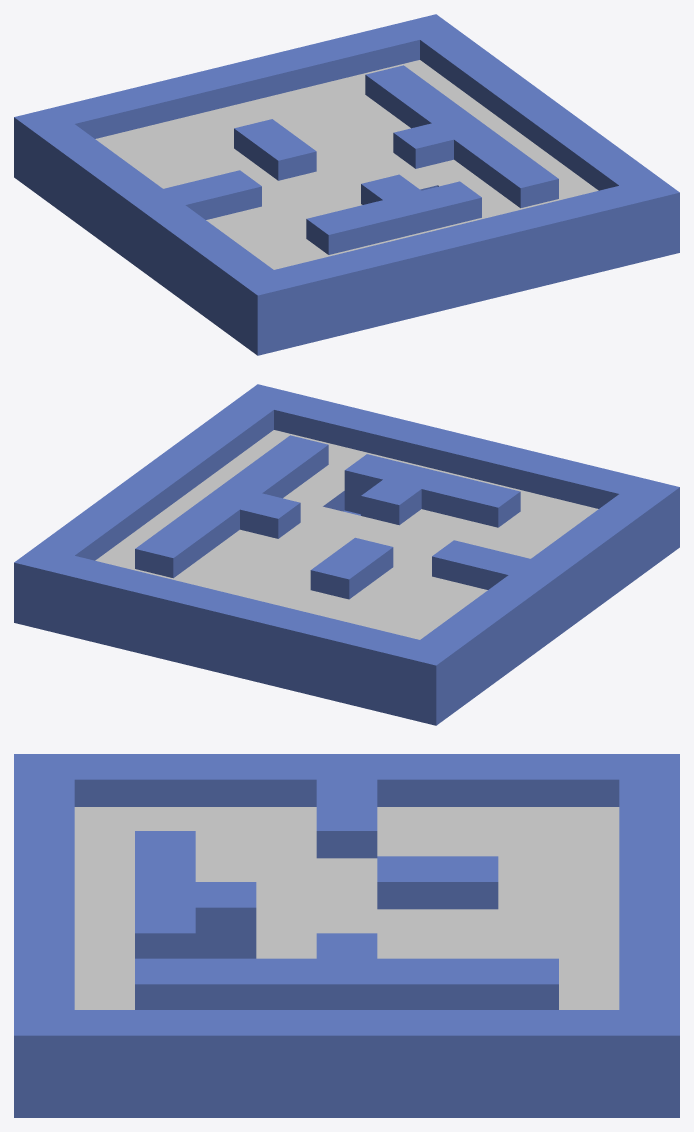
Rendered from 044_platform.fbx.
3 views of the same model, one above another, from view 1: azimuth 30°, elevation 25°; view 2: azimuth 150°, elevation 25°; view 3: azimuth 270°, elevation 25° (orthographic). The views are drawn at different scales.
Parts seen in each view (by area): view 1: Cube; view 2: Cube; view 3: Cube.
Boxes of the visible parts, x1,y1,x2,y2 form: Cube: [14, 14, 679, 355]; Cube: [14, 384, 679, 725]; Cube: [14, 754, 679, 1117].
Bounding box in the file's own units: 1100 × 150 × 1100.
